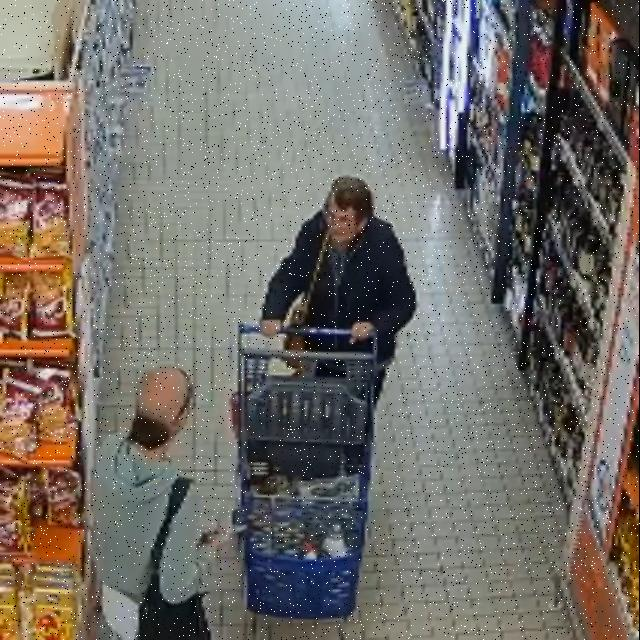bags: (138, 478, 211, 639), (285, 231, 330, 328)
hands: (199, 530, 232, 548), (350, 322, 374, 344), (260, 320, 282, 338)
person: (261, 176, 416, 402), (92, 367, 193, 622)
